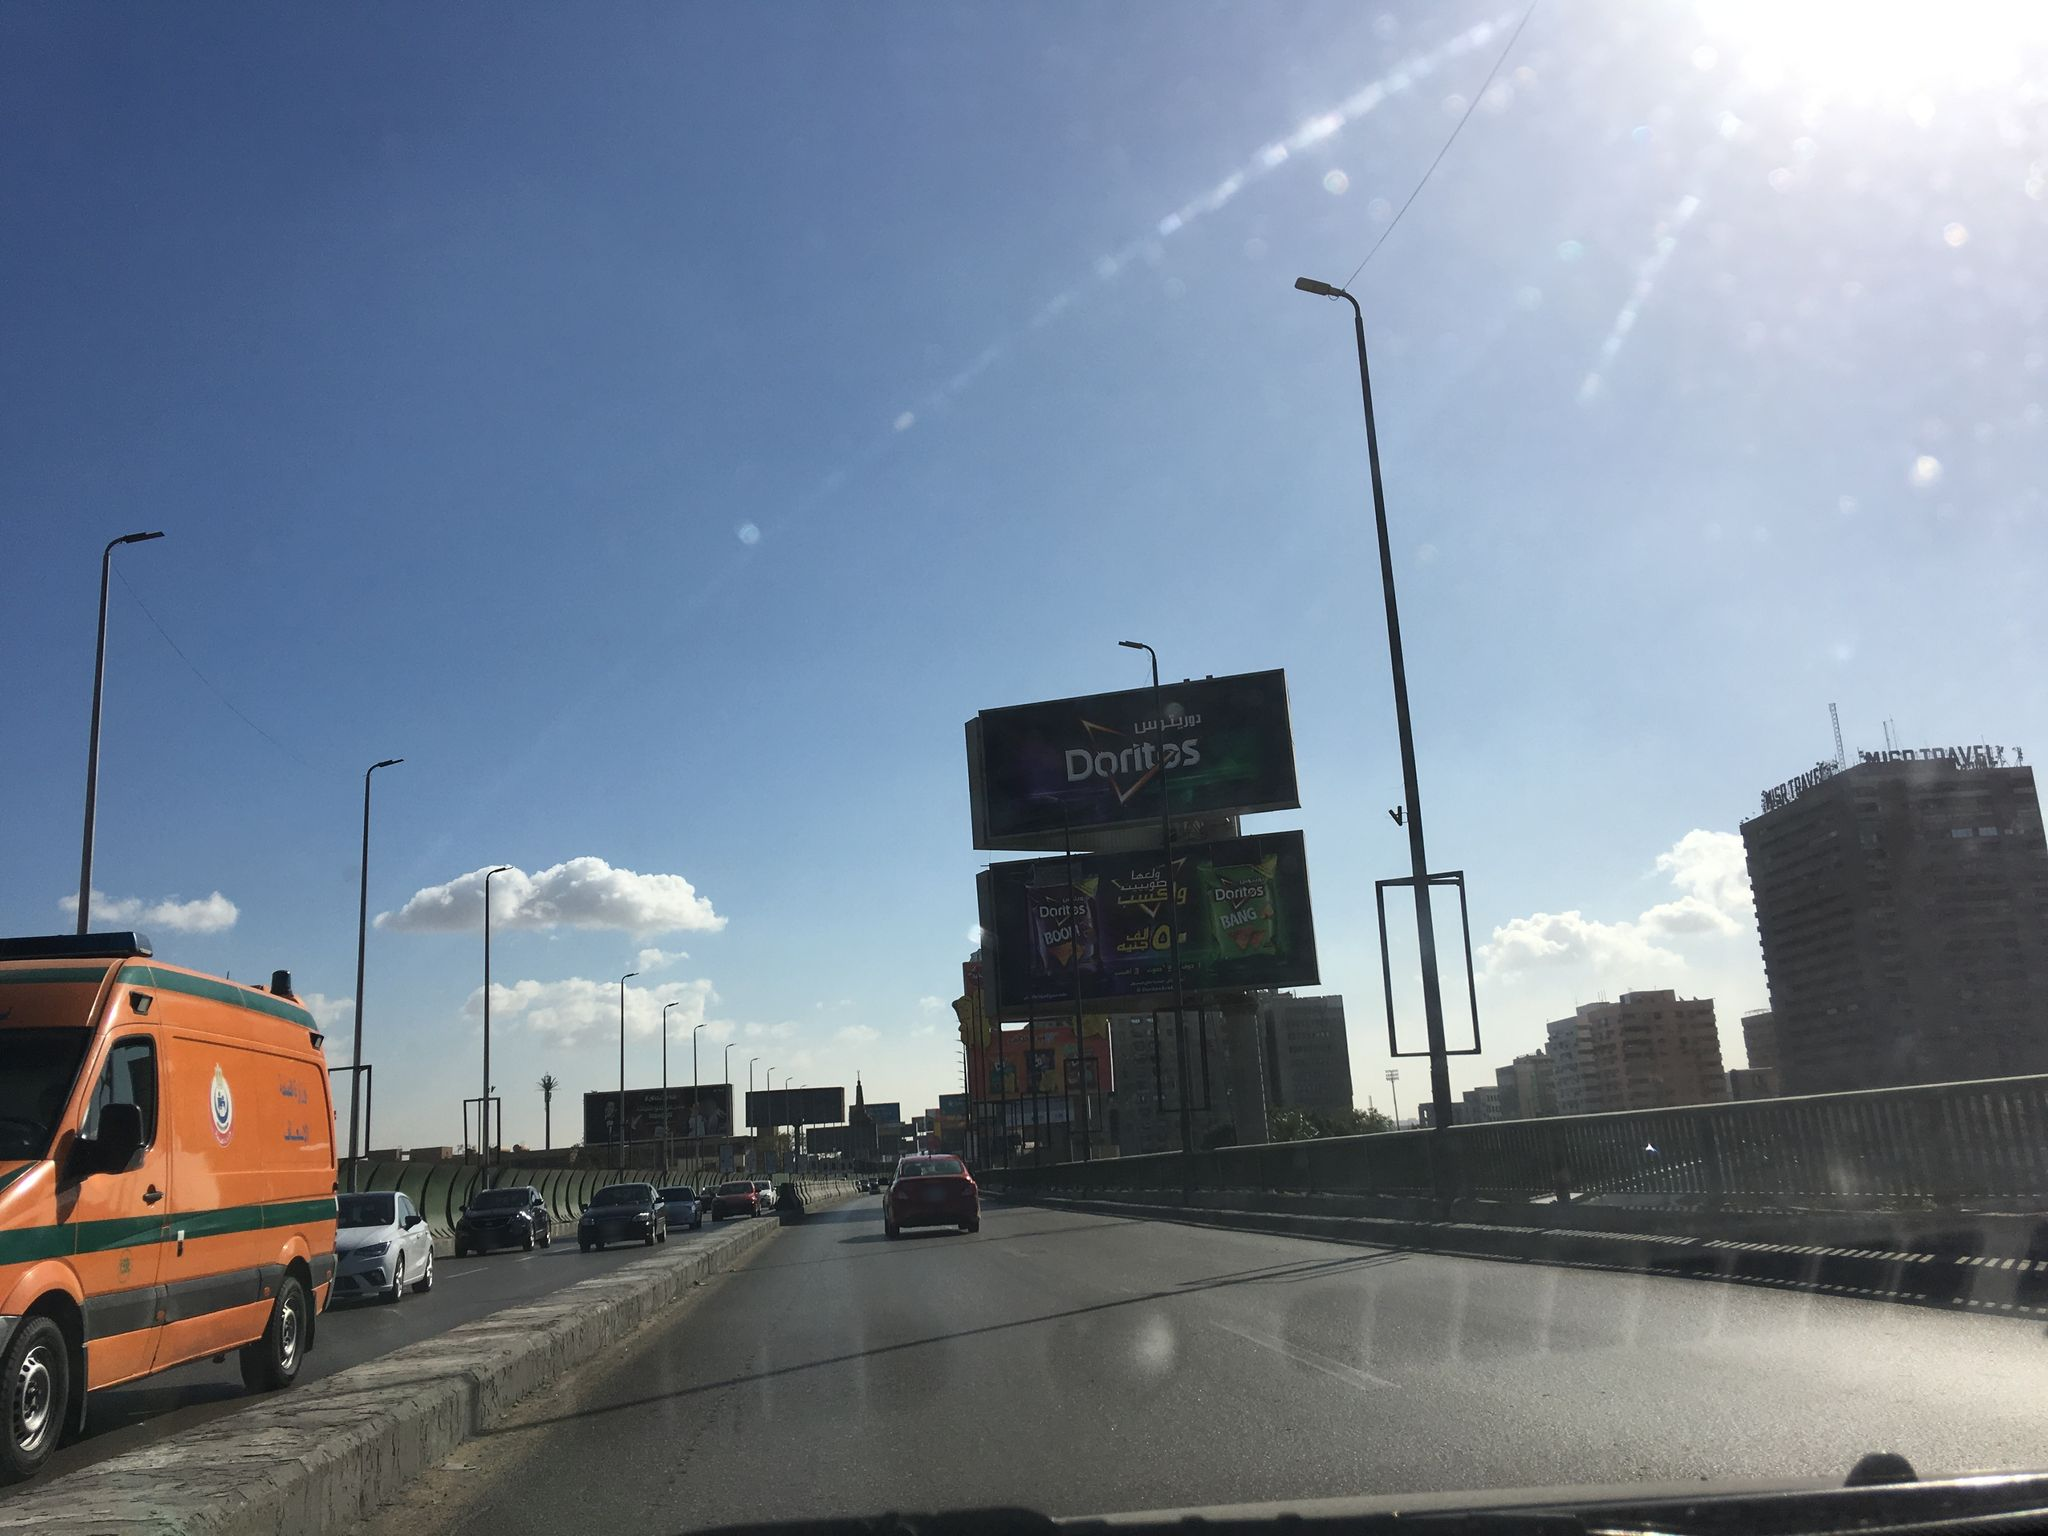car: (0, 923, 343, 1481), (331, 1191, 435, 1304), (882, 1154, 980, 1233), (455, 1186, 552, 1257), (577, 1183, 668, 1250), (656, 1184, 701, 1231), (710, 1179, 761, 1220), (751, 1179, 777, 1208), (698, 1184, 719, 1213)
